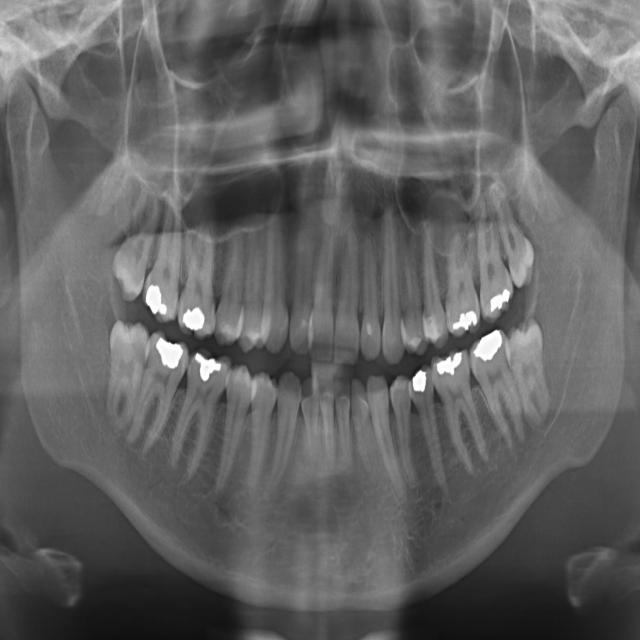AmalgamRestoration: (155, 336, 187, 371), (473, 331, 503, 365), (146, 284, 170, 324), (194, 352, 223, 381), (436, 350, 464, 378), (184, 304, 206, 334), (490, 284, 510, 317), (455, 305, 476, 331), (411, 366, 427, 394)
CompositeResinRestoration: (424, 312, 437, 345), (364, 321, 374, 338)
DentalCaries: (212, 298, 228, 325), (186, 369, 197, 398), (443, 305, 453, 325)
ImpactedTooth: (506, 315, 552, 410), (106, 321, 150, 412)
